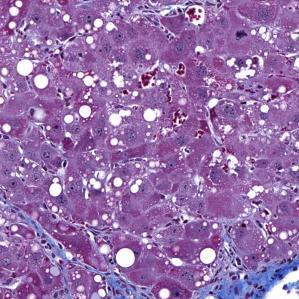fibrosis: (60, 253, 157, 299), (205, 247, 285, 298)
